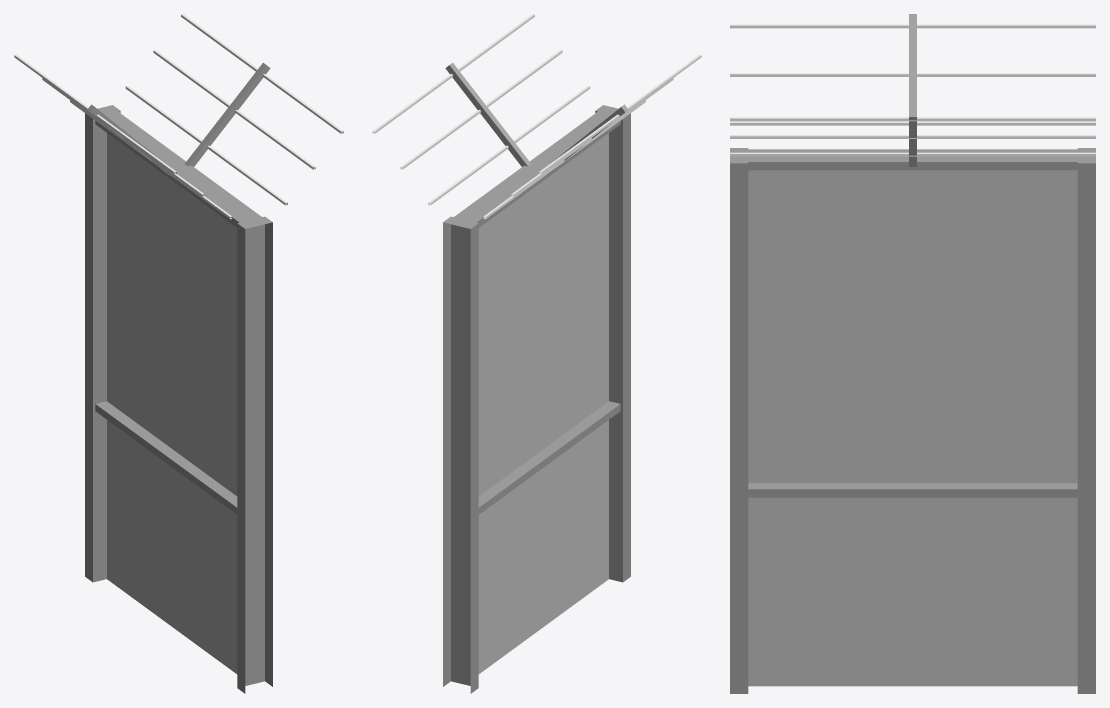
3 views of the same model, side by side, from view 1: azimuth 30°, elevation 25°; view 2: azimuth 150°, elevation 25°; view 3: azimuth 270°, elevation 25° (orthographic). The views are drawn at different scales.
Parts seen in each view (by area): view 1: SM_Grid_A_200; view 2: SM_Grid_A_200; view 3: SM_Grid_A_200.
Boxes of the visible parts, x1=… form: SM_Grid_A_200: x1=14, y1=14, x2=343, y2=693; SM_Grid_A_200: x1=372, y1=14, x2=701, y2=693; SM_Grid_A_200: x1=730, y1=14, x2=1095, y2=693.
Size of the model in its own units: 130 by 200 by 377.
